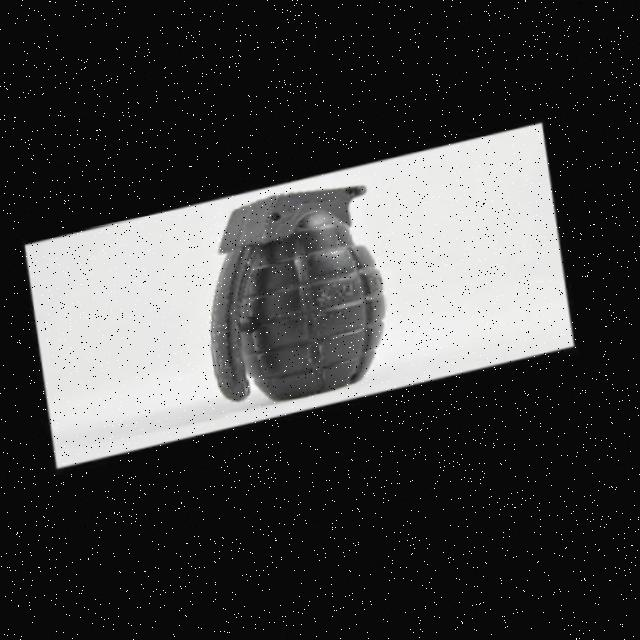grenade: (181, 163, 433, 431)
